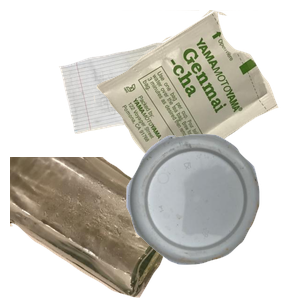glass: (10, 157, 190, 300)
paper: (56, 40, 229, 166)
plastic: (124, 132, 300, 300)
trash: (91, 10, 300, 186)
